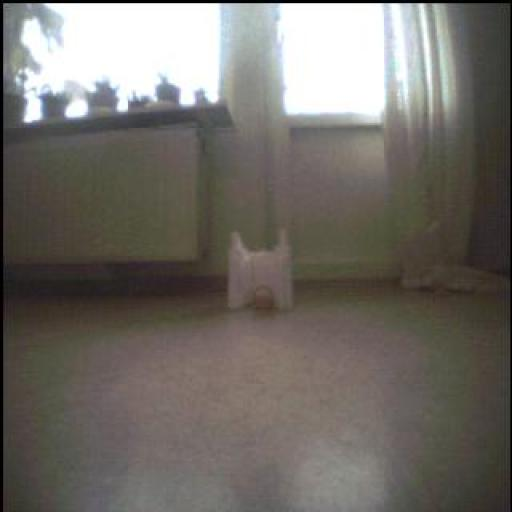Basket: (251, 284, 278, 317)
